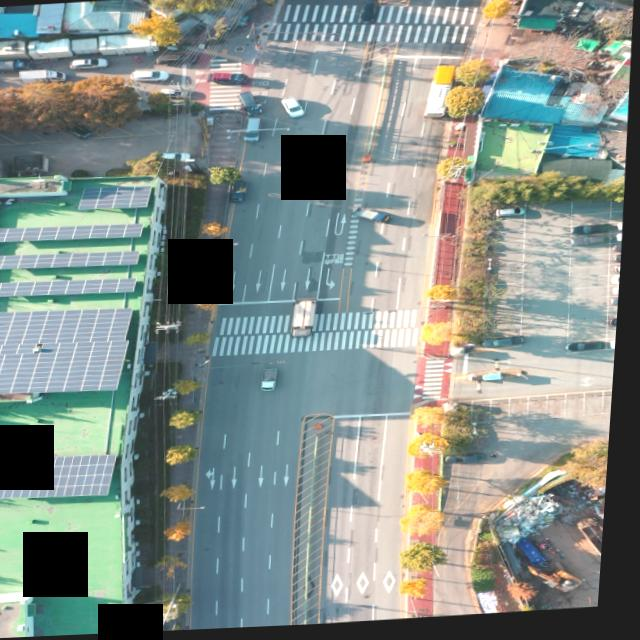car: (64, 118, 100, 142), (238, 90, 268, 118), (156, 52, 198, 68), (486, 338, 529, 353), (451, 454, 492, 469), (575, 226, 618, 240), (243, 118, 266, 143), (281, 98, 307, 119), (574, 239, 618, 251), (155, 150, 191, 164), (134, 69, 173, 81), (359, 1, 378, 25), (568, 344, 608, 355), (160, 87, 191, 100), (497, 210, 530, 222), (72, 59, 110, 69)
large_bus: (427, 65, 459, 121)
medium_truck: (296, 299, 324, 340)
small_truck: (208, 69, 251, 87), (18, 68, 67, 83), (359, 207, 395, 226), (0, 57, 37, 71), (230, 179, 250, 204), (264, 369, 283, 392)
